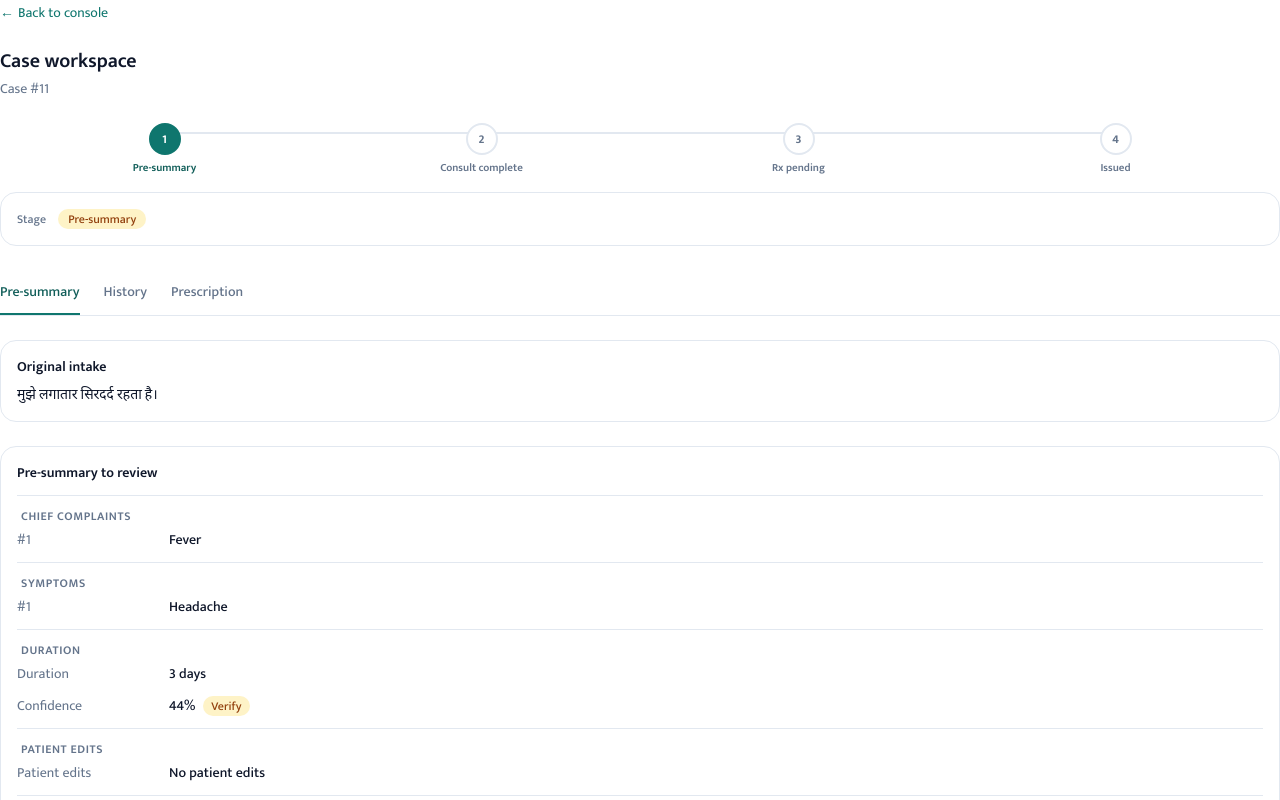
Test: CaseWorkspacePage inner tabs, transcript and audio (US-14, #484) › locks the prescription tab on a pre-summary case and jumps to the handshake
The image size is (1280, 800).
Click the tab "Prescription" at (207, 292), box [171,270,243,314]
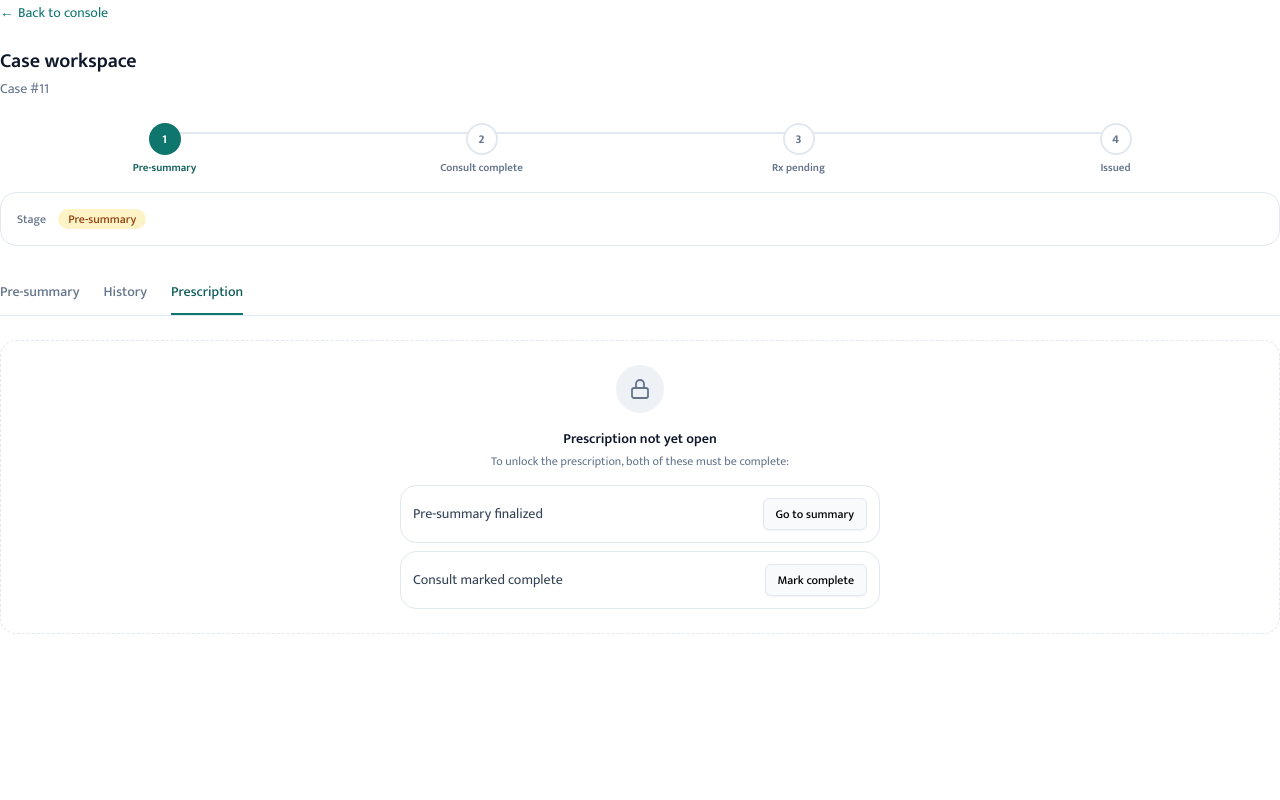
Click the button with test id "rx-lock-presummary-action" at (815, 514), box [762,498,867,530]
(page scrolled)
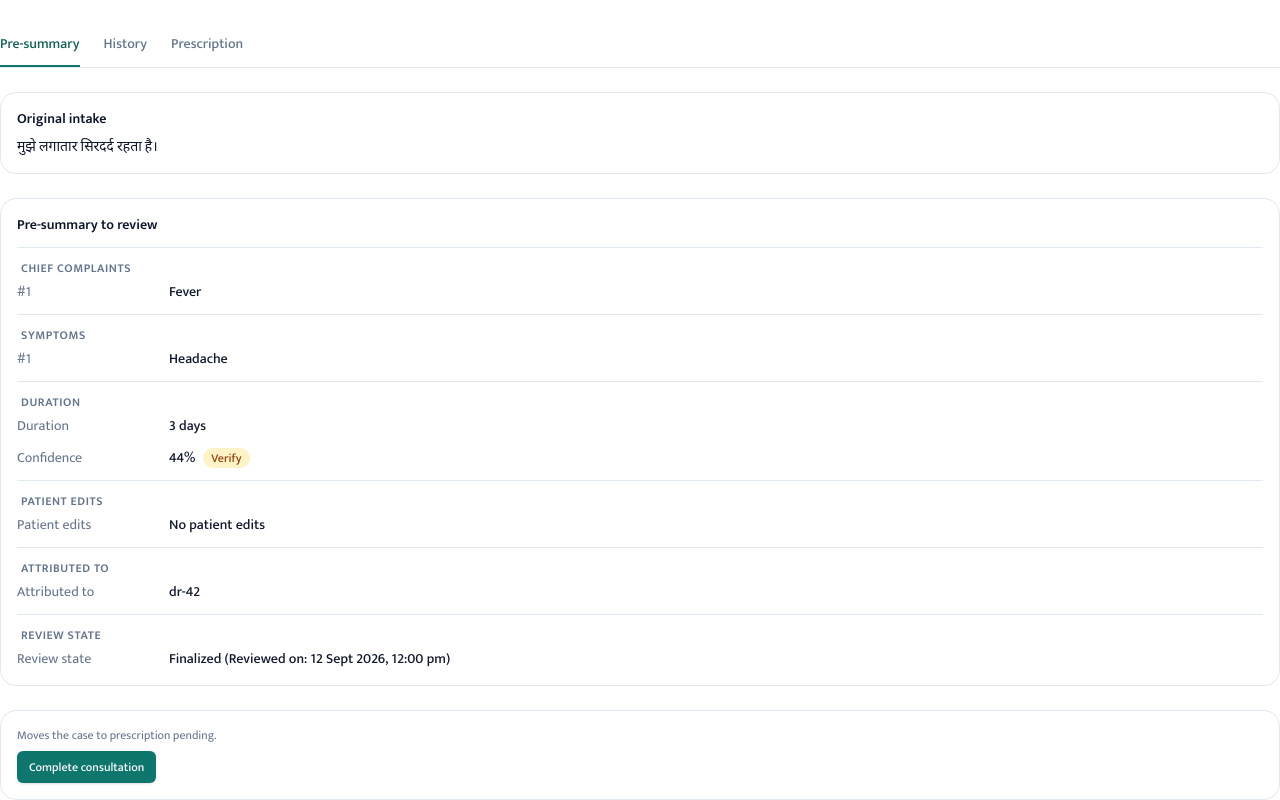
Check: the button with test id "handshake-action" is shown, box [17,751,156,783]
